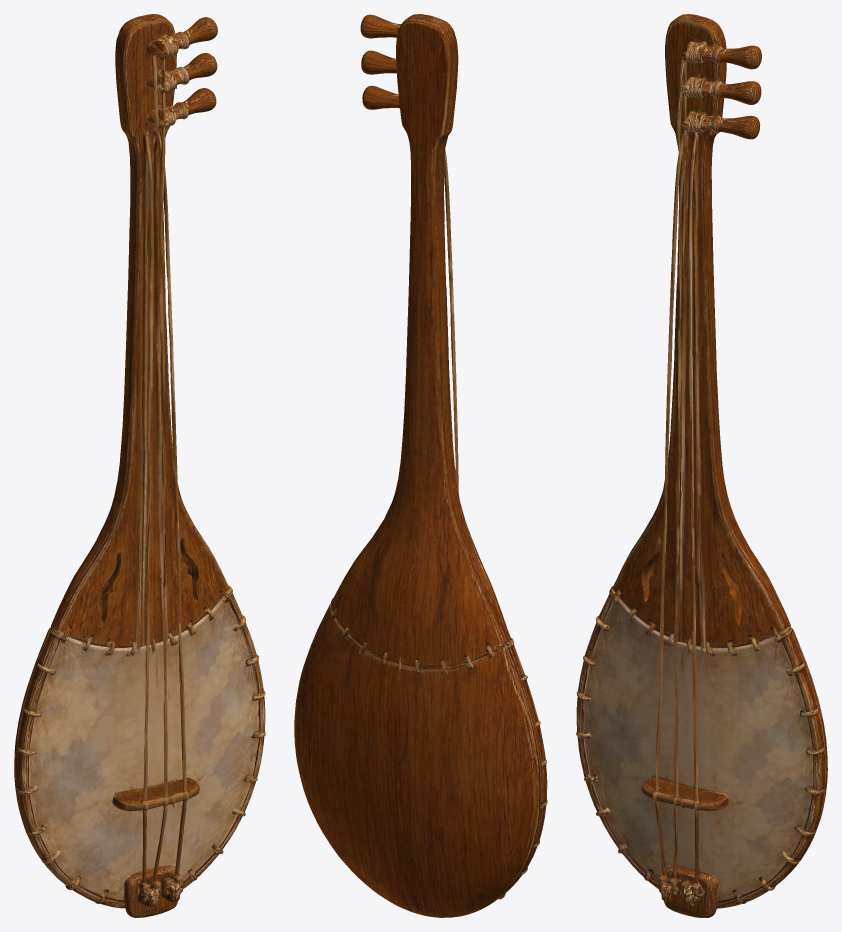
The model's file is kopuz.glb.
3 renders of one model, left to right at view 1: azimuth 30°, elevation 25°; view 2: azimuth 150°, elevation 25°; view 3: azimuth 330°, elevation 25°, orthographic.
Bounding box in the file's own units: 0.5473 × 1.9 × 0.1969.
1 material, 1 textured.
